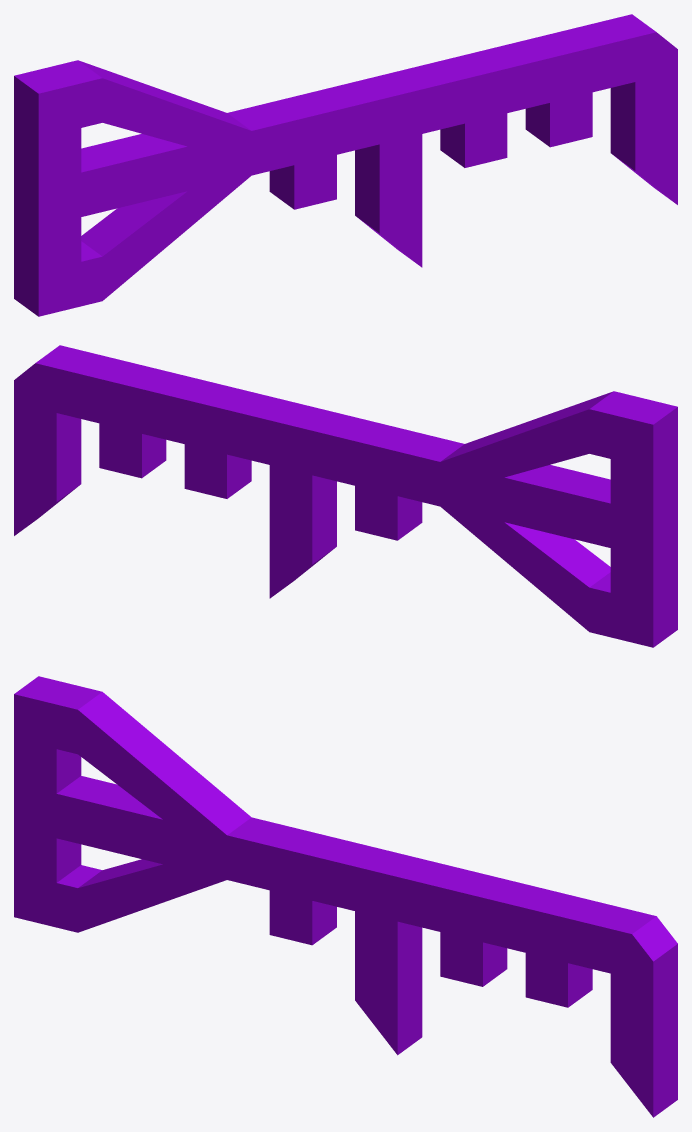
File: Items.fbx_Key_29.fbx
3 views of the same model, one above another, from view 1: azimuth 30°, elevation 25°; view 2: azimuth 150°, elevation 25°; view 3: azimuth 330°, elevation 25° (orthographic).
Visible parts, largest first — view 1: Key 29; view 2: Key 29; view 3: Key 29.
Part boxes in pixels (x1,y1,x2,y2): Key 29: (14, 14, 677, 316); Key 29: (14, 345, 677, 647); Key 29: (14, 676, 677, 1117).
Bounding box in the file's own units: 30 × 12 × 2.
